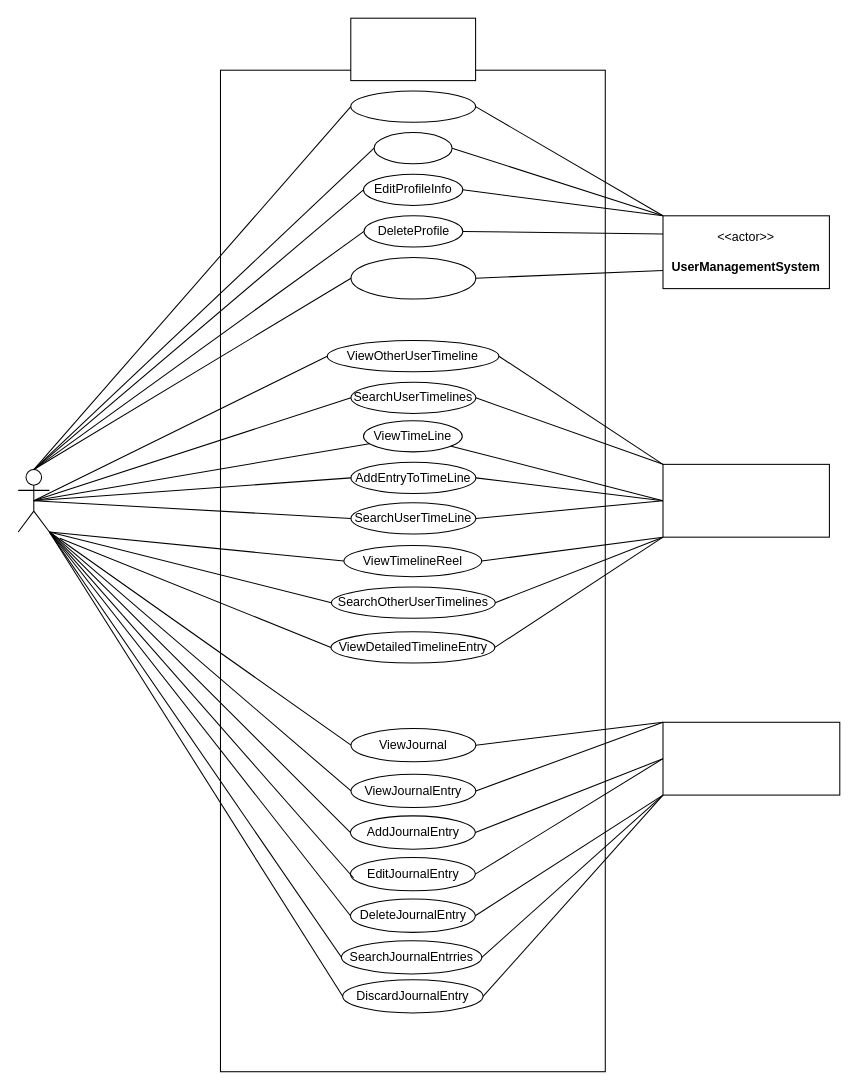
Image size: 858x1090. Some labels were removed from this diagram. The box of each missing label's shape, as (x1, y1, x2, y2) in pixels:
"Chroncicle" Application: (350, 17, 476, 81)
<<actor>> JournalManagementSystem: (662, 721, 840, 795)
<<actor>> TimelineManagemetSystem: (662, 463, 829, 537)
CreateUserAccount: (350, 90, 476, 122)
User: (17, 469, 49, 532)
UserSignIn: (373, 132, 452, 164)
ViewOtherUser Profile: (350, 256, 476, 299)
